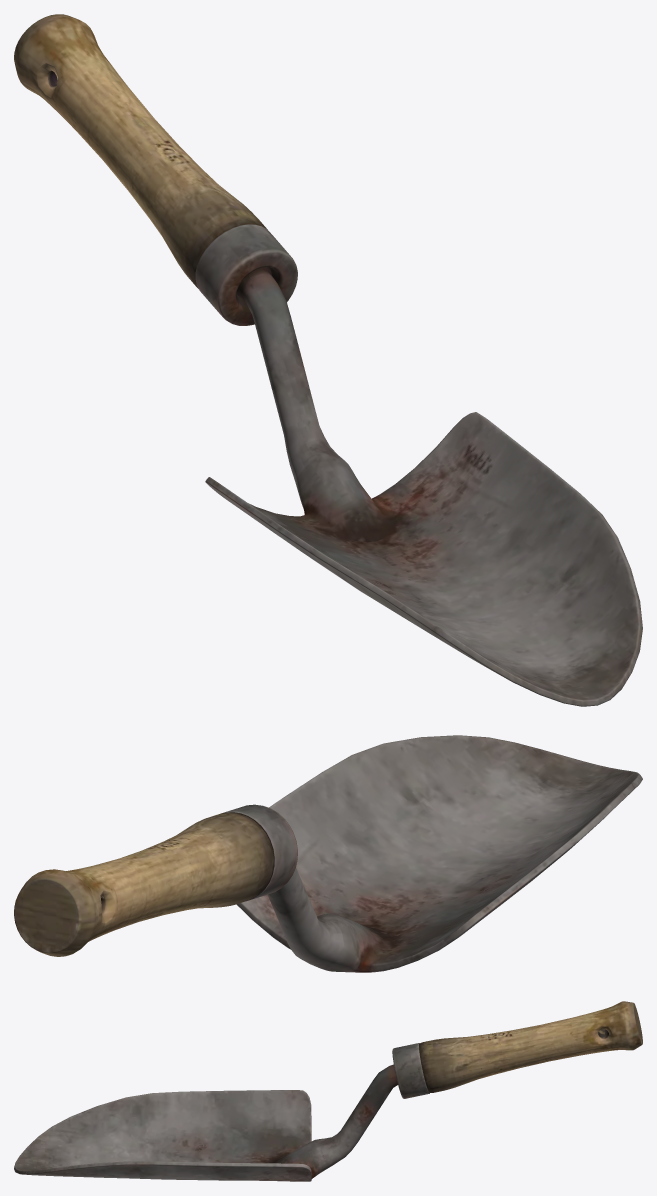
Rendered from trowel_01.glb.
The picture shows the model from 3 angles, top to bottom: view 1: azimuth 30°, elevation 25°; view 2: azimuth 150°, elevation 25°; view 3: azimuth 270°, elevation 25°; orthographic projection. The views are drawn at different scales.
Visible parts, largest first — view 1: trowel_01; view 2: trowel_01; view 3: trowel_01.
Part boxes in pixels (<box>): trowel_01: <box>14,14,642,706</box>; trowel_01: <box>14,735,642,972</box>; trowel_01: <box>14,1001,642,1181</box>.
Bounding box in the file's own units: 0.0991 × 0.1026 × 0.3469.
1 material, 1 textured.
